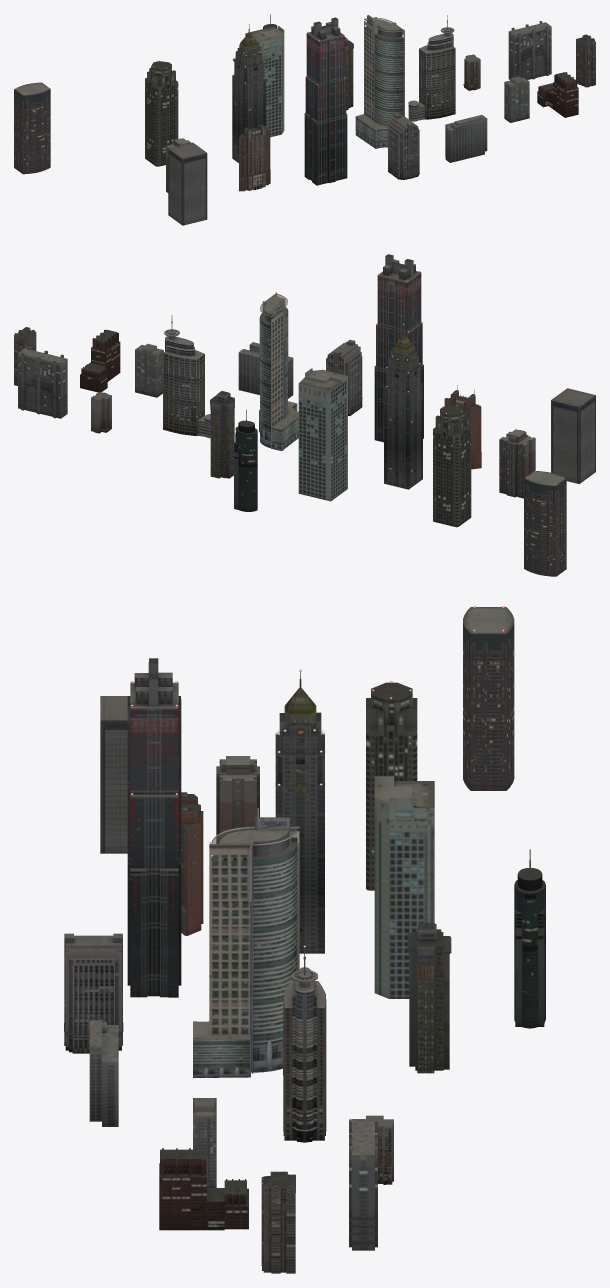
The model's file is asian_themed_low_poly_night_city_buildings.glb.
3 renders of one model, top to bottom at view 1: azimuth 30°, elevation 25°; view 2: azimuth 150°, elevation 25°; view 3: azimuth 270°, elevation 25°, orthographic. The views are drawn at different scales.
Visible parts, largest first — view 1: BACKGROUND_BUILDINGS_1.001_BACKGROUND_BUILDINGS_1_0, BACKGROUND_BUILDING_2.001_BACKGROUND_BUILDING_2_0; view 2: BACKGROUND_BUILDINGS_1.001_BACKGROUND_BUILDINGS_1_0, BACKGROUND_BUILDING_2.001_BACKGROUND_BUILDING_2_0; view 3: BACKGROUND_BUILDINGS_1.001_BACKGROUND_BUILDINGS_1_0, BACKGROUND_BUILDING_2.001_BACKGROUND_BUILDING_2_0.
Boxes of the visible parts, x1,y1,x2,y2 form: BACKGROUND_BUILDINGS_1.001_BACKGROUND_BUILDINGS_1_0: (14, 14, 595, 225); BACKGROUND_BUILDING_2.001_BACKGROUND_BUILDING_2_0: (145, 15, 578, 179); BACKGROUND_BUILDINGS_1.001_BACKGROUND_BUILDINGS_1_0: (14, 254, 595, 576); BACKGROUND_BUILDING_2.001_BACKGROUND_BUILDING_2_0: (18, 293, 471, 527); BACKGROUND_BUILDINGS_1.001_BACKGROUND_BUILDINGS_1_0: (100, 607, 545, 1273); BACKGROUND_BUILDING_2.001_BACKGROUND_BUILDING_2_0: (64, 682, 434, 1250).
Bounding box in the file's own units: 1049 × 301 × 419.
4 materials, 4 textured.
